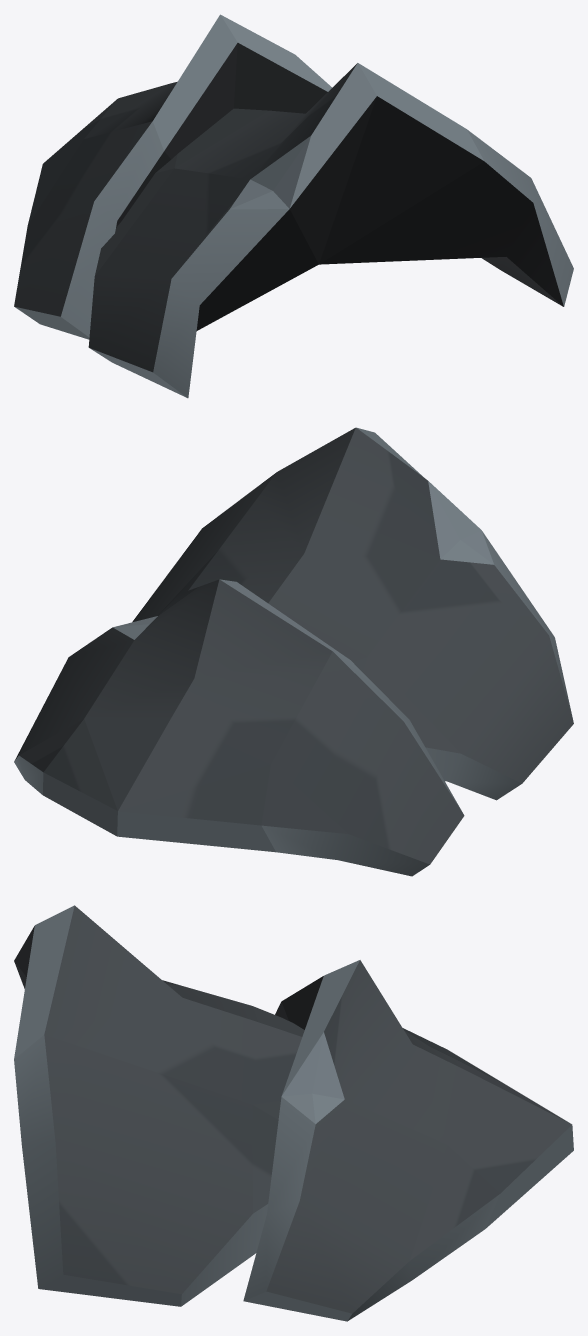
Rendered from SM_Chr_Attach_Armour_Dark_Back_Large_01.fbx.
3 renders of one model, top to bottom at view 1: azimuth 30°, elevation 25°; view 2: azimuth 150°, elevation 25°; view 3: azimuth 270°, elevation 25°, orthographic. The views are drawn at different scales.
Visible parts, largest first — view 1: SM_Chr_Attach_Armour_Dark_Back_Large_01; view 2: SM_Chr_Attach_Armour_Dark_Back_Large_01; view 3: SM_Chr_Attach_Armour_Dark_Back_Large_01.
Part boxes in pixels (x1,y1,x2,y2): SM_Chr_Attach_Armour_Dark_Back_Large_01: (14, 14, 573, 398); SM_Chr_Attach_Armour_Dark_Back_Large_01: (14, 427, 573, 876); SM_Chr_Attach_Armour_Dark_Back_Large_01: (14, 905, 573, 1321).
Bounding box in the file's own units: 22.96 × 15.69 × 24.65.
